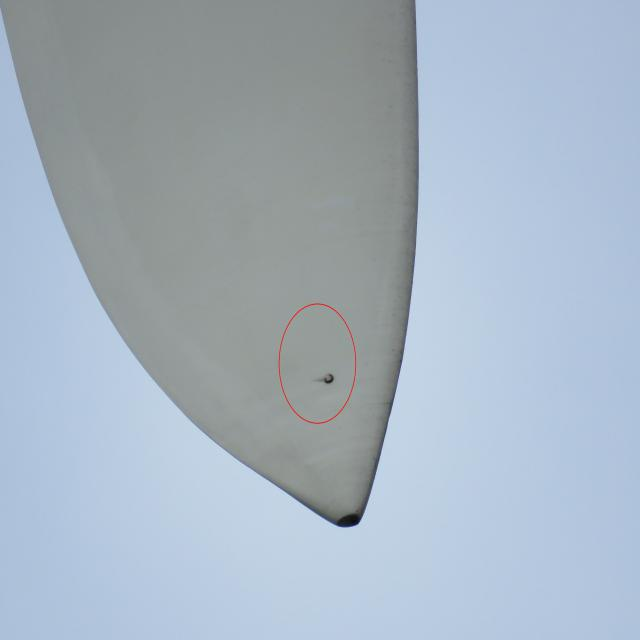damage: (316, 356, 338, 396)
